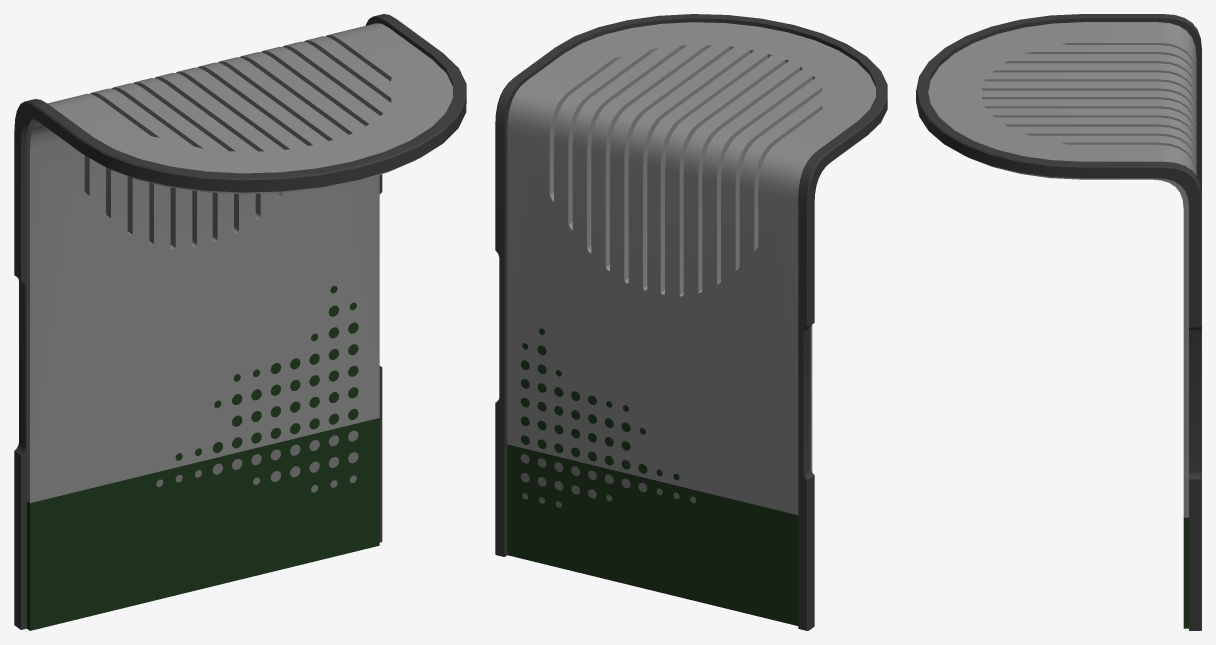
Rendered from W_O_Shade_001_L0.fbx.
3 views of the same model, side by side, from view 1: azimuth 30°, elevation 25°; view 2: azimuth 150°, elevation 25°; view 3: azimuth 270°, elevation 25° (orthographic). The views are drawn at different scales.
Visible parts, largest first — view 1: W_O_Shade_001_L0; view 2: W_O_Shade_001_L0; view 3: W_O_Shade_001_L0.
Boxes of the visible parts, x1=… form: W_O_Shade_001_L0: x1=14, y1=14, x2=466, y2=630; W_O_Shade_001_L0: x1=495, y1=14, x2=887, y2=630; W_O_Shade_001_L0: x1=916, y1=14, x2=1201, y2=630.
Size of the model in its own units: 2.8 by 3.96 by 2.21.
